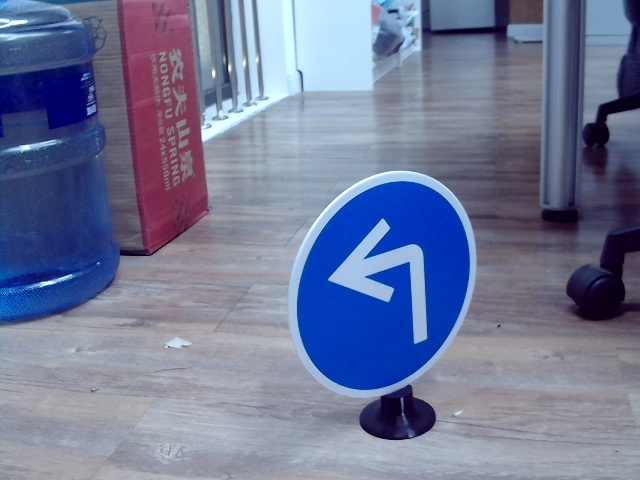turn_left: (326, 224, 436, 345)
